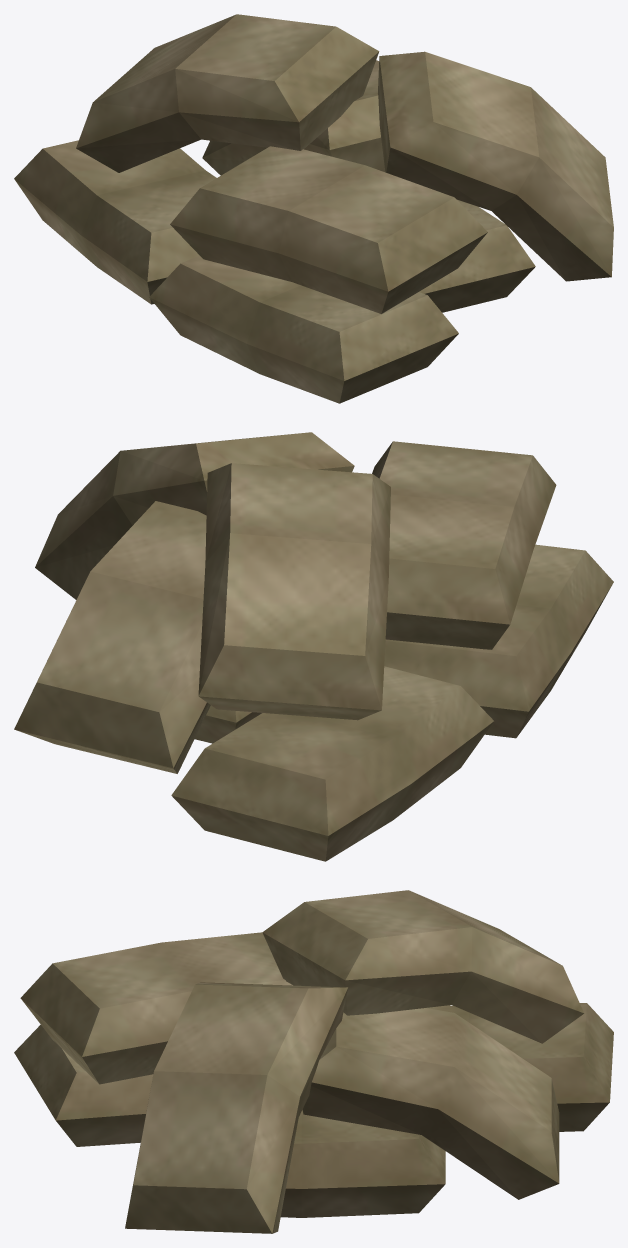
Rendered from Sack_a.FBX.
3 renders of one model, top to bottom at view 1: azimuth 30°, elevation 25°; view 2: azimuth 150°, elevation 25°; view 3: azimuth 270°, elevation 25°, orthographic. The views are drawn at different scales.
Visible parts, largest first — view 1: Sack_a; view 2: Sack_a; view 3: Sack_a.
Part boxes in pixels (bbox=[...]): Sack_a: bbox=[14, 14, 613, 403]; Sack_a: bbox=[14, 432, 613, 861]; Sack_a: bbox=[14, 890, 613, 1233].
Bounding box in the file's own units: 77.88 × 88.54 × 38.73.
